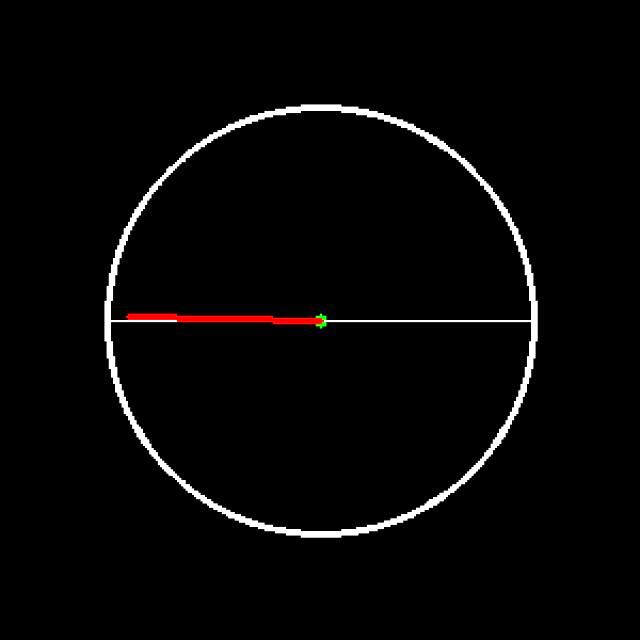Needle_Tip: (119, 300, 179, 349)
Needle_base: (306, 305, 337, 343)
